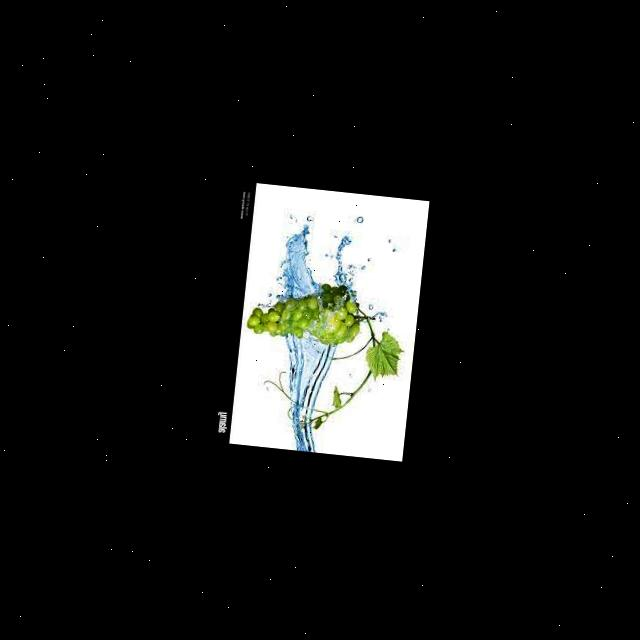grape: (246, 275, 365, 348)
